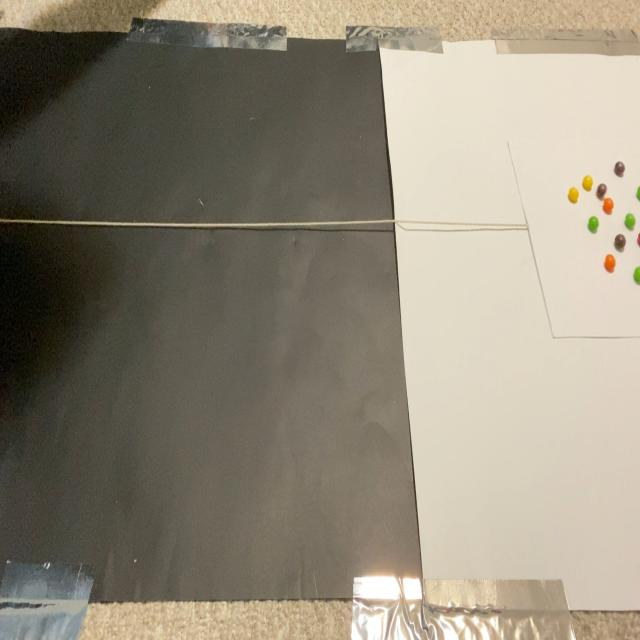smartie: (605, 253, 617, 272), (616, 232, 627, 250), (569, 185, 580, 202), (589, 215, 600, 232), (604, 196, 615, 213), (626, 212, 637, 229), (583, 174, 594, 190), (597, 182, 608, 198), (615, 160, 626, 176), (635, 265, 640, 284)
